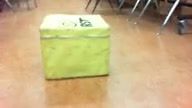cube: (38, 14, 110, 81)
